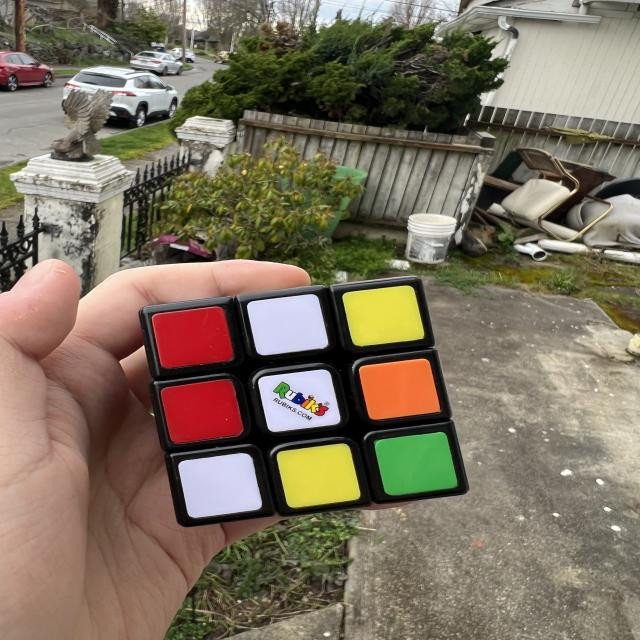center: (257, 367, 342, 435)
green: (373, 430, 458, 498)
orange: (358, 356, 441, 422)
red: (159, 377, 244, 446), (150, 305, 235, 370)
white: (177, 451, 263, 520), (257, 367, 342, 434), (246, 292, 329, 357)
yellow: (276, 440, 361, 511), (342, 283, 425, 348)
